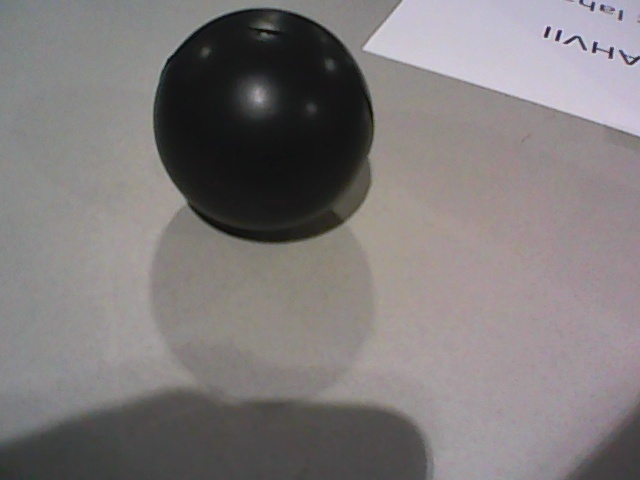ball: (153, 8, 375, 233)
